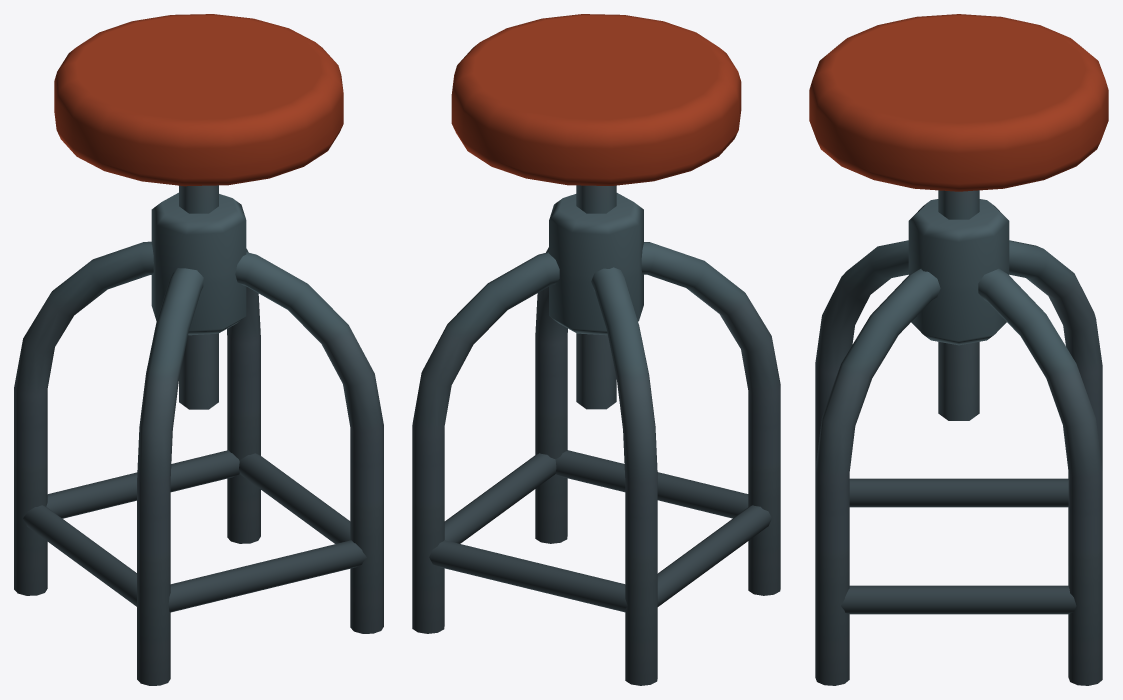
File: Chair_03.glb
3 views of the same model, side by side, from view 1: azimuth 30°, elevation 25°; view 2: azimuth 150°, elevation 25°; view 3: azimuth 270°, elevation 25° (orthographic). The views are drawn at different scales.
Parts seen in each view (by area): view 1: Chair_03; view 2: Chair_03; view 3: Chair_03.
Boxes of the visible parts, bbox=[...] form: Chair_03: bbox=[14, 14, 383, 685]; Chair_03: bbox=[412, 14, 780, 685]; Chair_03: bbox=[809, 14, 1108, 685].
Size of the model in its own units: 0.4151 by 0.85 by 0.4151.
1 material, 1 textured.
